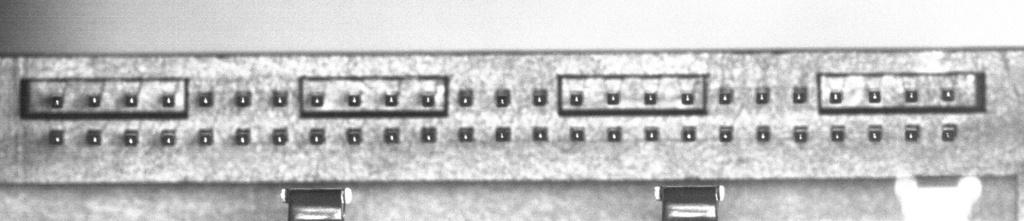pin_ok: (271, 89, 288, 107), (904, 124, 921, 142), (495, 88, 511, 107), (271, 128, 288, 145), (941, 124, 958, 141), (159, 129, 176, 146), (235, 90, 252, 107), (196, 90, 213, 107), (458, 88, 474, 106), (532, 88, 548, 106), (235, 127, 251, 145), (383, 127, 400, 143), (197, 128, 213, 145), (421, 126, 437, 143), (123, 129, 139, 146), (718, 87, 734, 104), (346, 128, 362, 144), (309, 128, 325, 144), (830, 126, 846, 142), (86, 129, 102, 145), (48, 128, 64, 144), (457, 127, 474, 142), (792, 86, 807, 103), (755, 87, 770, 104), (756, 126, 771, 142), (495, 126, 511, 141), (643, 126, 659, 141), (532, 126, 548, 141), (420, 91, 436, 106), (793, 127, 808, 142), (569, 127, 585, 141), (719, 126, 733, 142), (607, 127, 622, 141), (682, 126, 696, 141), (569, 91, 583, 106), (941, 87, 955, 102), (868, 127, 882, 142), (309, 93, 324, 107), (828, 90, 843, 104), (643, 91, 657, 105), (161, 94, 176, 107), (680, 92, 695, 105), (904, 89, 919, 102), (347, 93, 361, 106), (384, 93, 398, 106), (606, 91, 620, 104), (868, 89, 881, 103), (125, 94, 138, 107), (87, 95, 100, 107), (50, 96, 63, 108)
